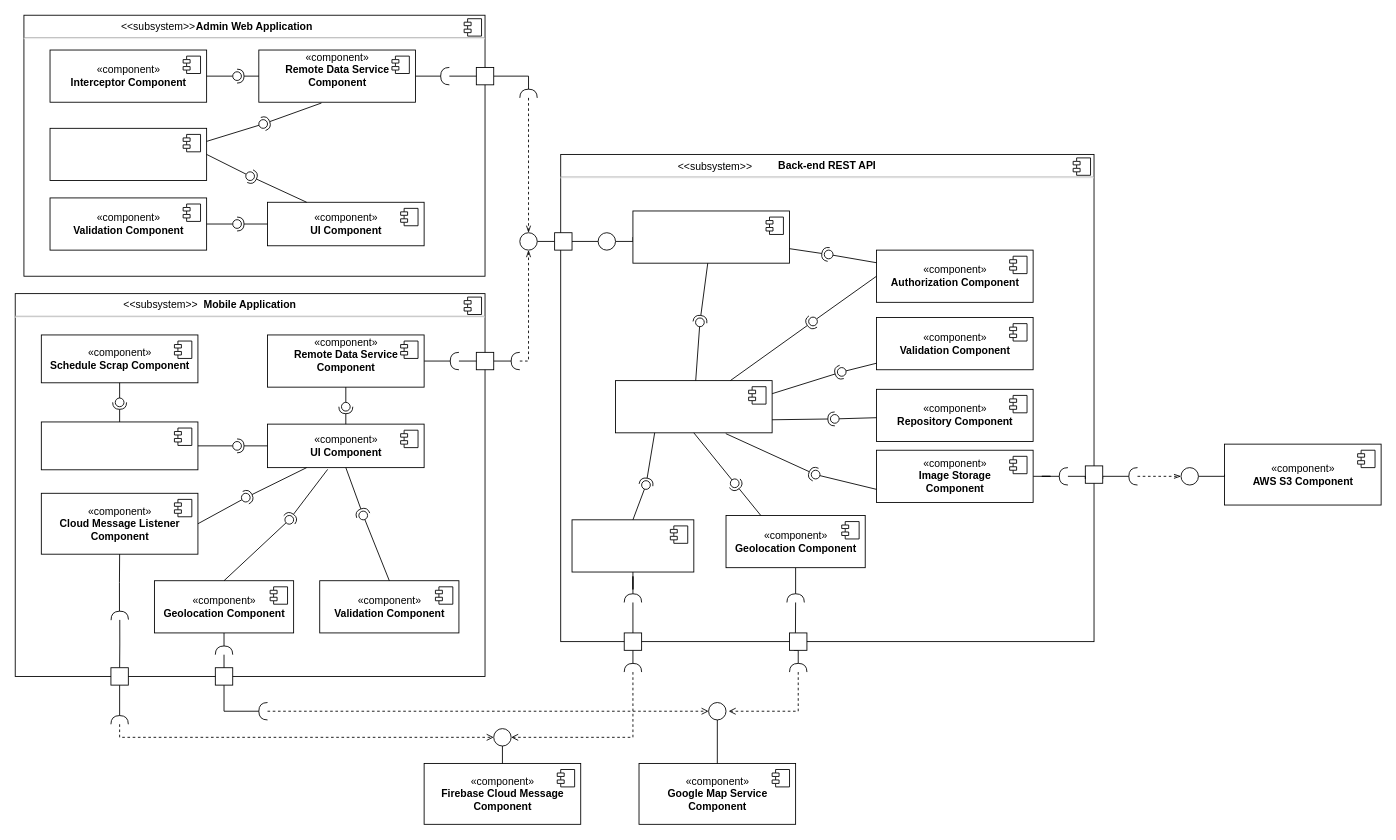
The diagram is 1396 pixels wide and 840 high, and some of its shapes have lost their labels. The shapes that lost their labels are listed below. From the top down, each one's centre as x and y in pixels, then its label:
[128,154]: «component» Router Component
[711,236]: «component» Controller Component
[693,406]: «component» Business Logic Component
[119,445]: «component» Global Store Component
[632,545]: «component» Firebase Admin Component
